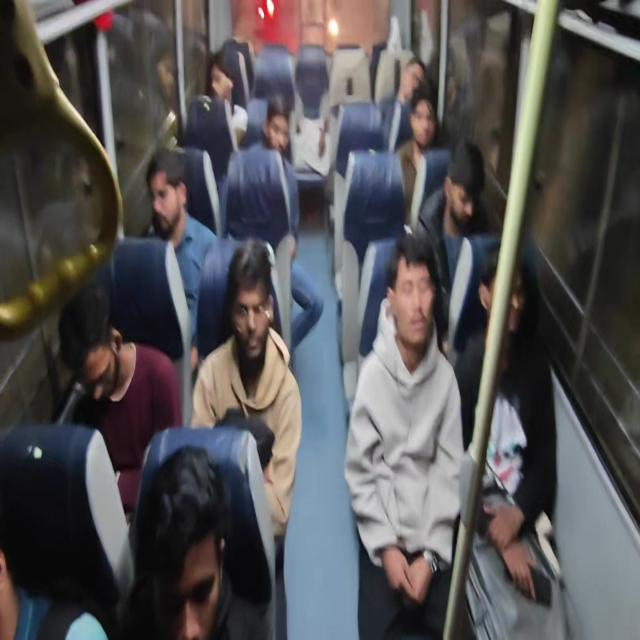person: (148, 406, 257, 629), (226, 251, 314, 423), (373, 244, 474, 383), (137, 144, 219, 264), (52, 285, 126, 416), (252, 91, 331, 203), (0, 478, 51, 638), (486, 263, 544, 380), (437, 147, 499, 250), (292, 89, 345, 182), (402, 89, 447, 161), (389, 48, 431, 110), (202, 50, 238, 105)
